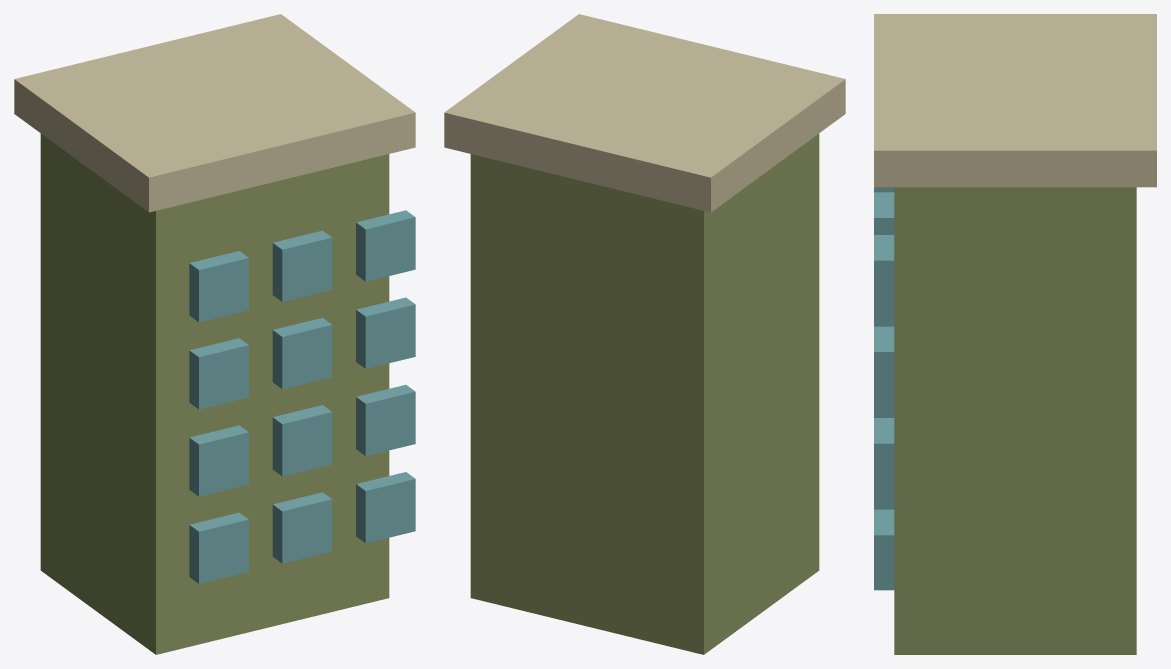
File: agriculture-02.glb
The picture shows the model from 3 angles, left to right: view 1: azimuth 30°, elevation 25°; view 2: azimuth 150°, elevation 25°; view 3: azimuth 270°, elevation 25°; orthographic projection. The views are drawn at different scales.
Visible parts, largest first — view 1: Grain silo; view 2: Grain silo; view 3: Grain silo.
Boxes of the visible parts, box(x1,y1,x2,y2) form: Grain silo: box(14, 14, 415, 654); Grain silo: box(444, 14, 845, 654); Grain silo: box(874, 14, 1156, 654).
Size of the model in its own units: 1.28 by 2.24 by 1.12.
